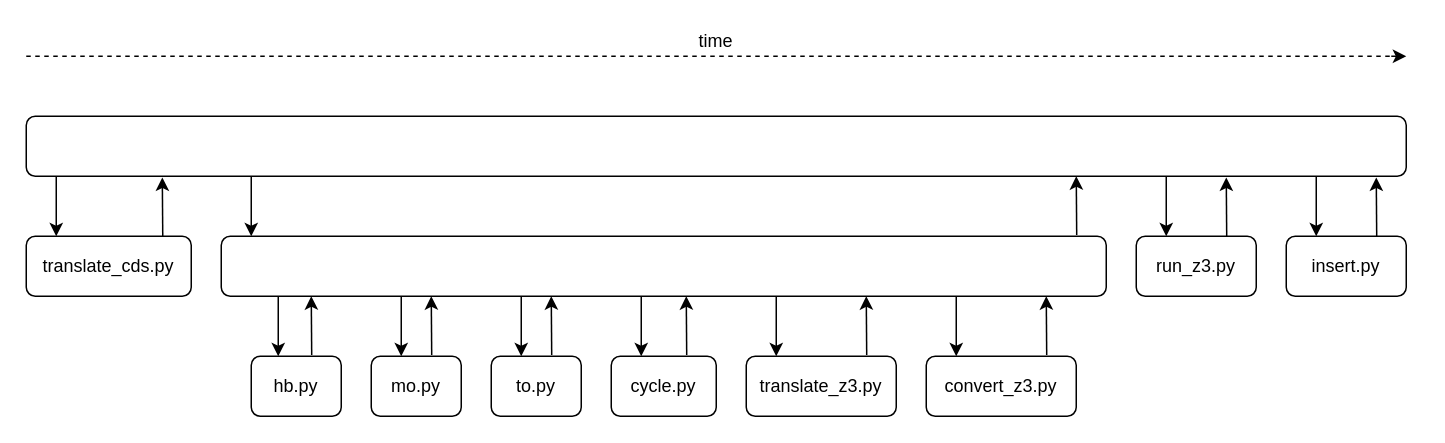
Some shapes in this 1445 by 443 pixel diagram are drawn without their labels. Here are the shapes that lost their labels. From the top down, the centre of each, then its label:
pixel 715 145: main.py
pixel 663 265: processing.py
